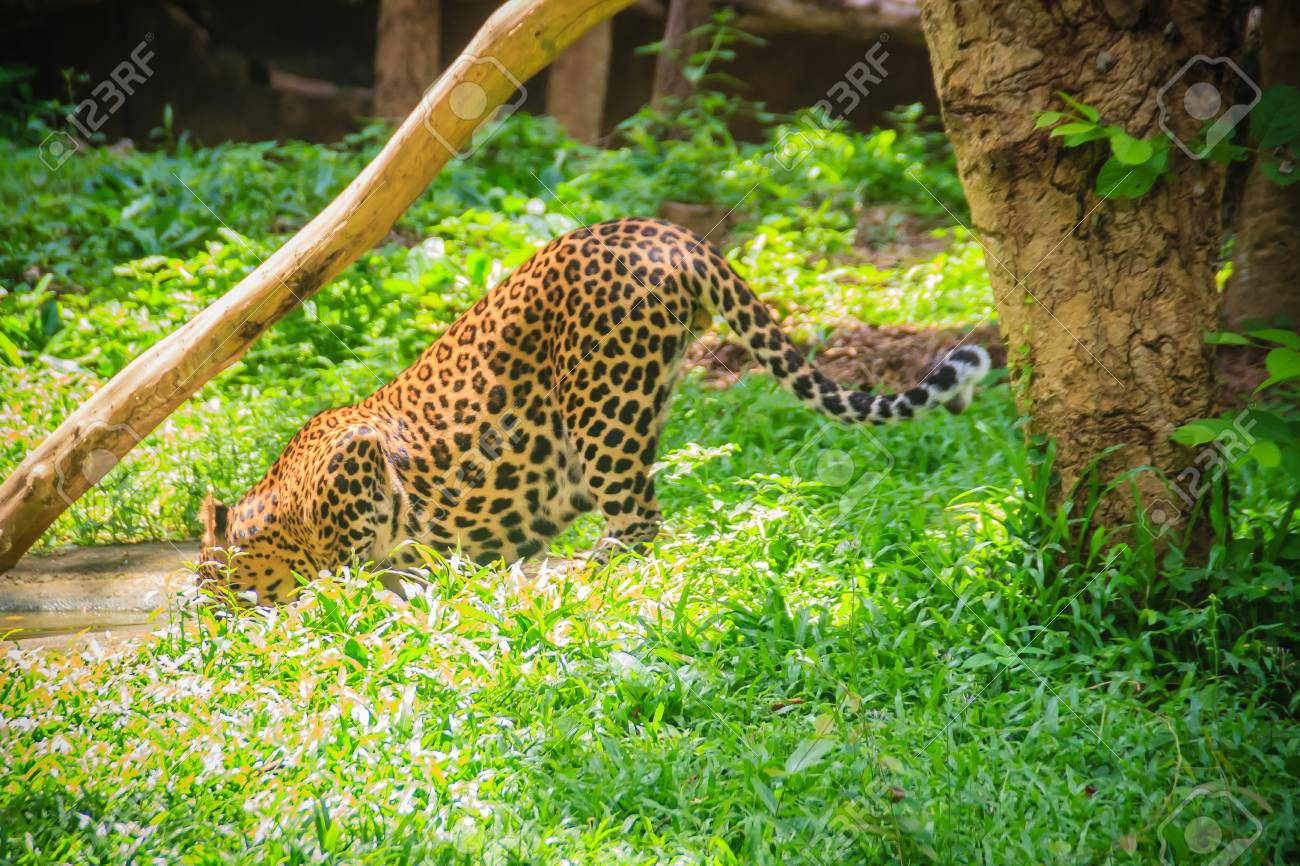leopard: (182, 204, 1008, 648)
